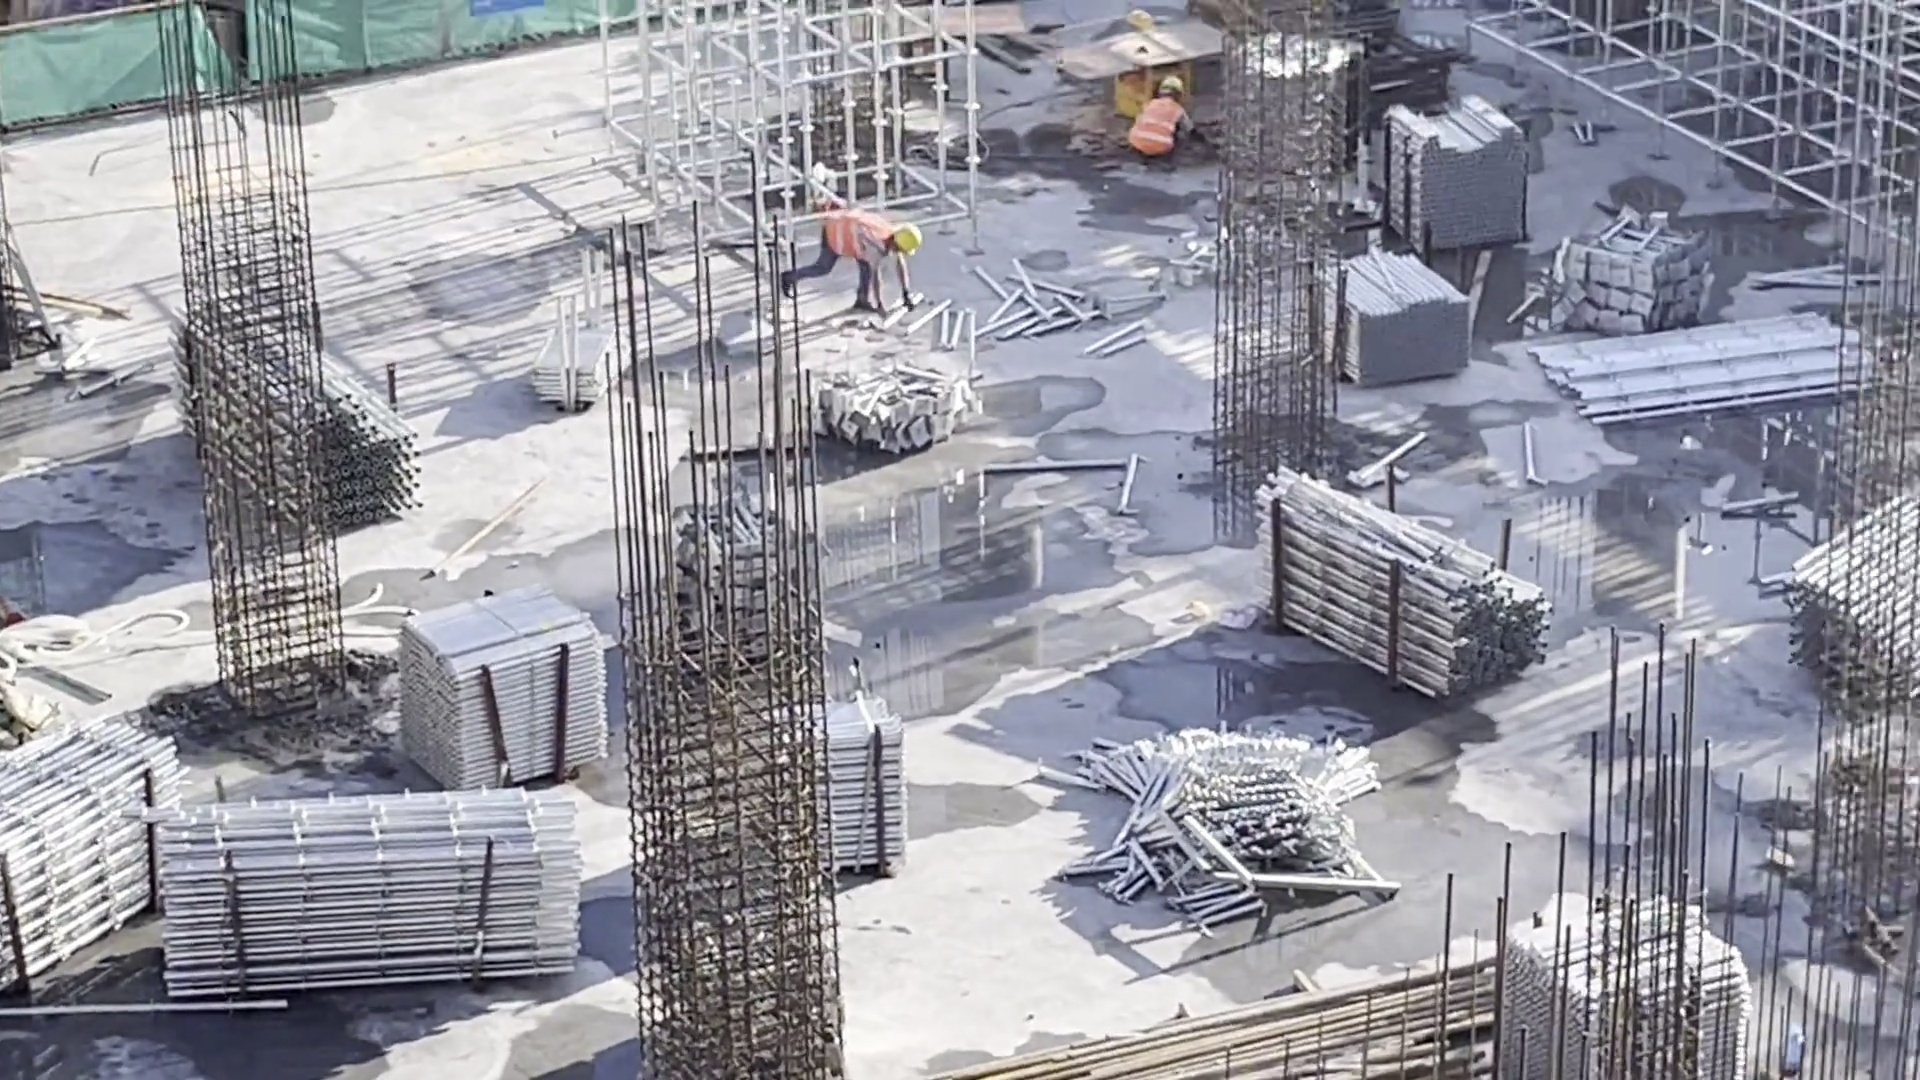cutter: (1060, 32, 1229, 131), (829, 3, 1030, 74)
helmet: (890, 219, 917, 256), (1157, 77, 1182, 97)
person: (770, 204, 918, 330), (1122, 74, 1206, 168)
scaffold: (140, 807, 575, 972), (1096, 747, 1400, 904), (1243, 500, 1507, 669), (416, 583, 631, 769), (1, 727, 169, 944), (1532, 311, 1843, 406), (1387, 112, 1547, 253), (1308, 261, 1483, 381), (1257, 49, 1369, 167), (823, 729, 904, 859), (541, 324, 608, 405)
vest: (817, 211, 885, 267), (1129, 100, 1188, 157)
